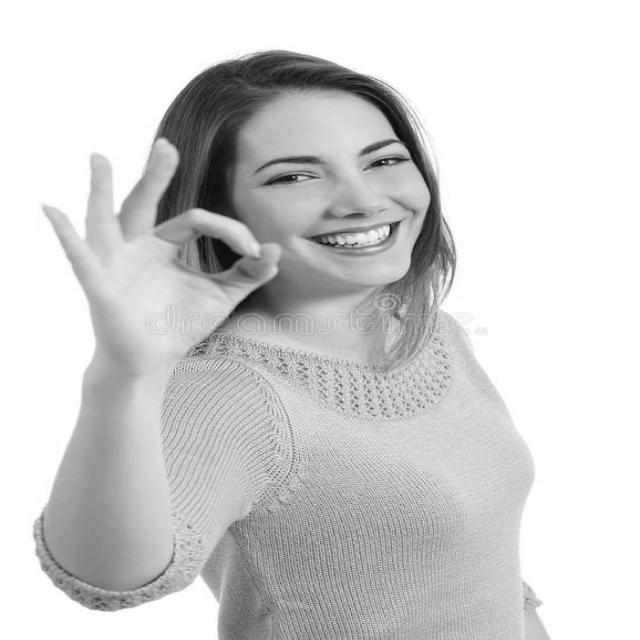perfect: (32, 132, 289, 384)
